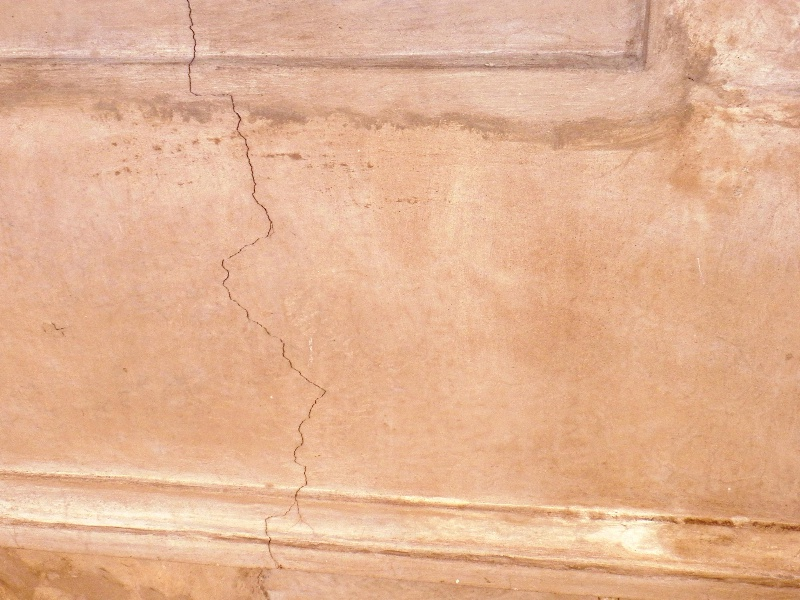Crack: (176, 4, 331, 559)
